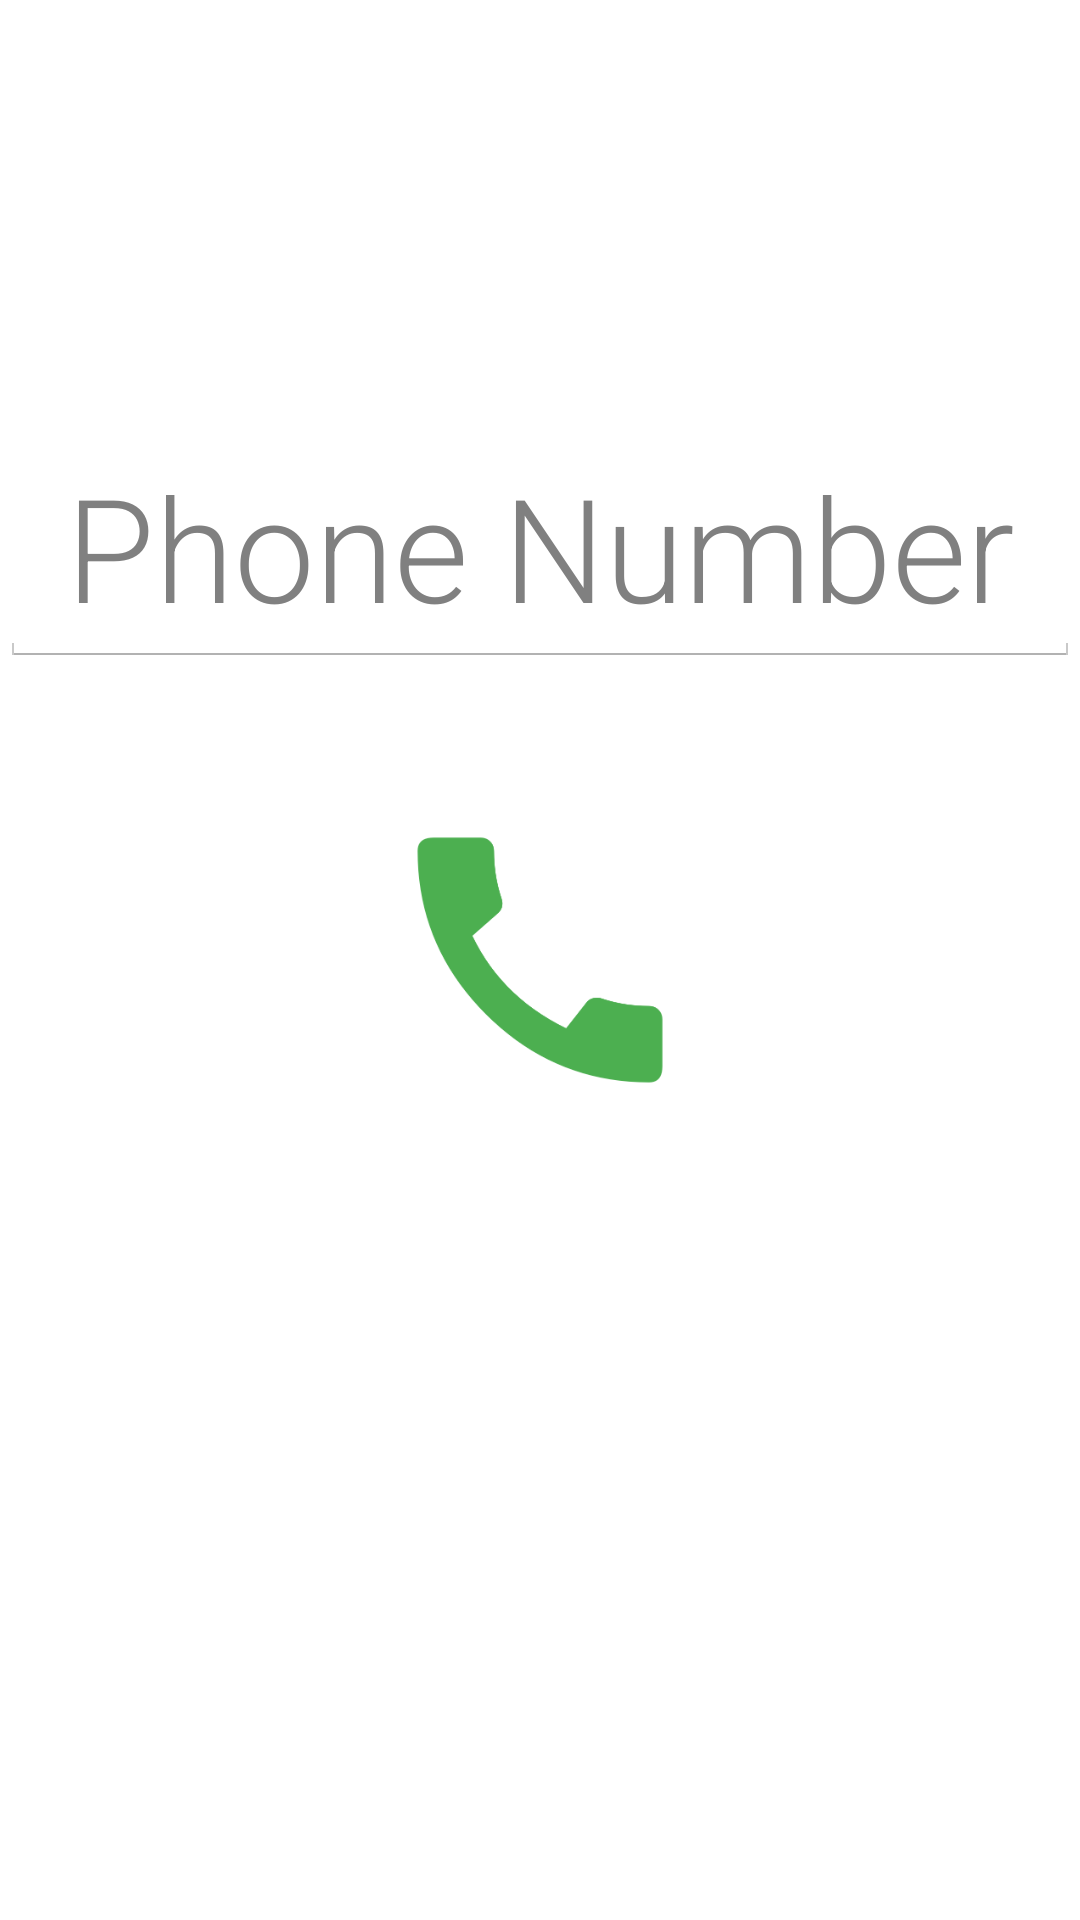

Locate icon controls on the screen. Image size 1080px×1920px, boxes as box(x1, y1, x2, y2).
call: box(417, 837, 663, 1083)
